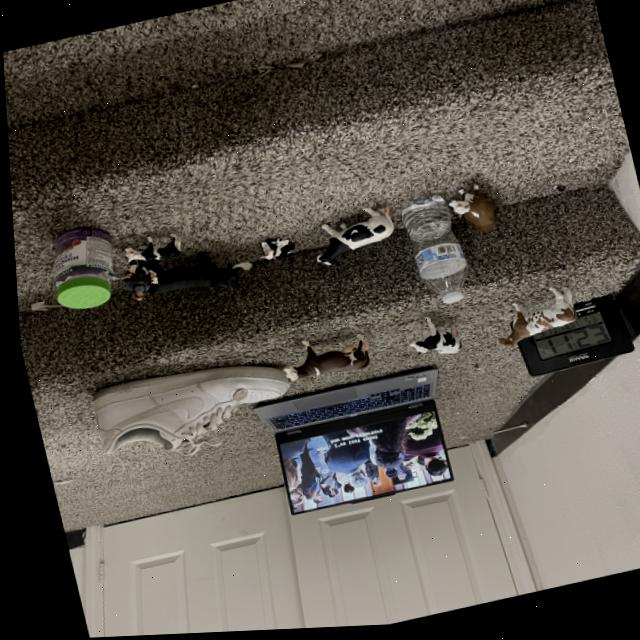cow: (480, 284, 577, 356), (301, 199, 396, 270), (141, 249, 250, 295), (273, 332, 367, 384), (442, 181, 504, 241), (401, 319, 459, 374), (120, 233, 179, 265), (254, 238, 292, 263), (120, 263, 153, 285)
person: (121, 283, 147, 301)
